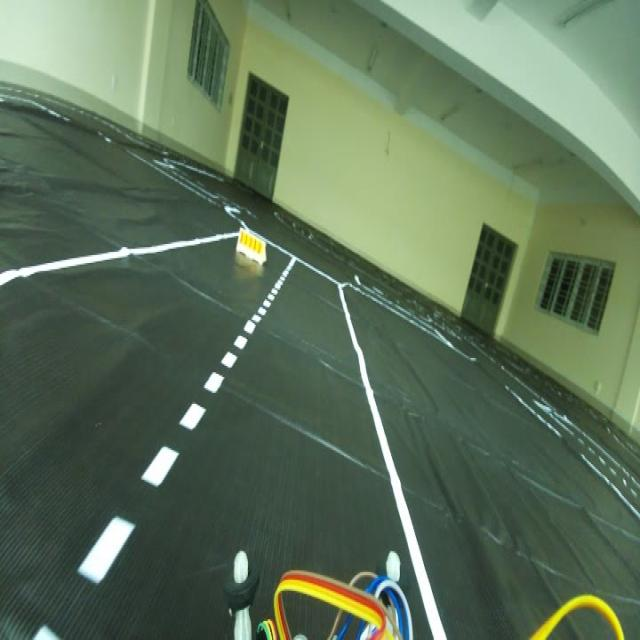roadblock: (233, 220, 262, 265)
